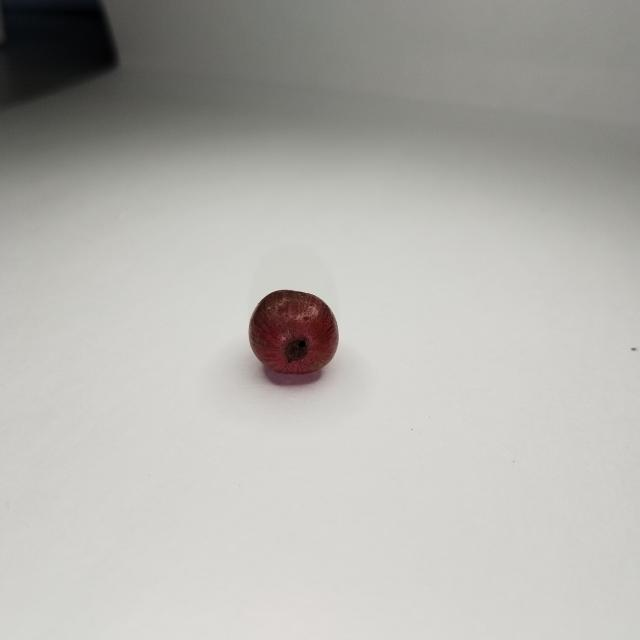Infectado: (249, 290, 338, 373)
